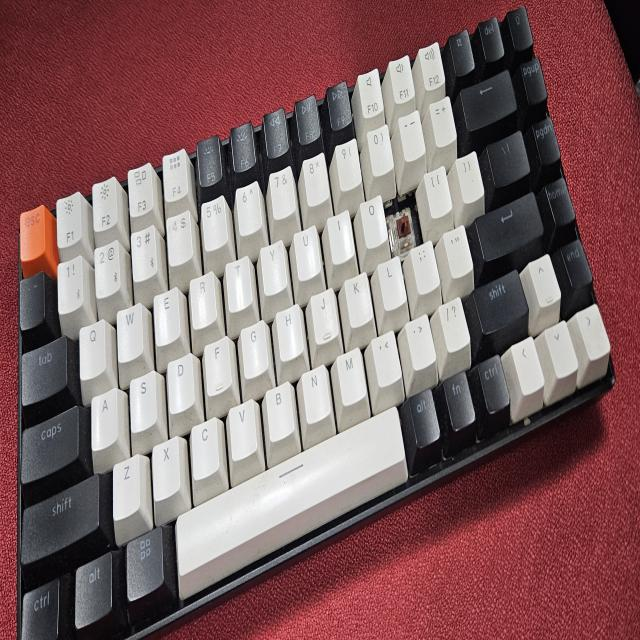C: (391, 205, 418, 238)
